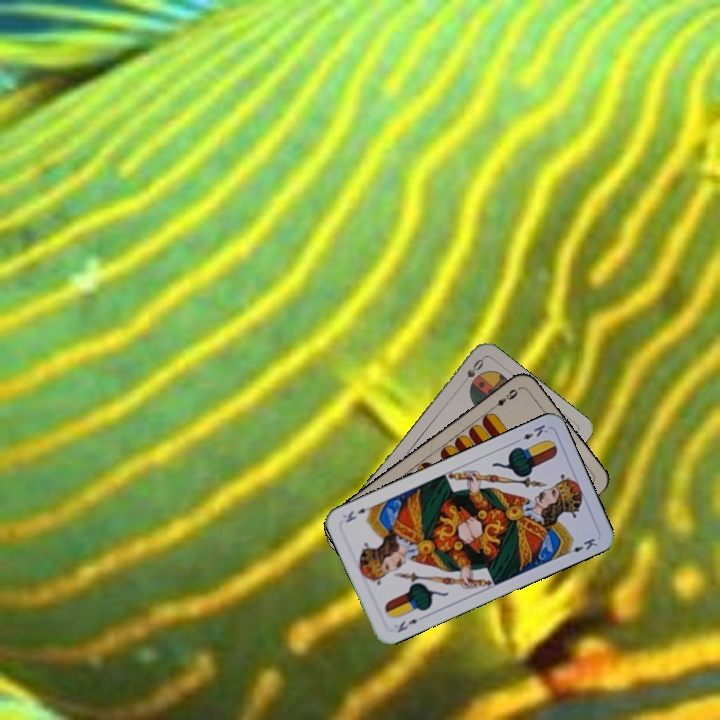E9: (487, 384, 522, 413)
EK: (511, 420, 551, 446), (393, 615, 420, 635)
SO: (456, 354, 486, 389)
